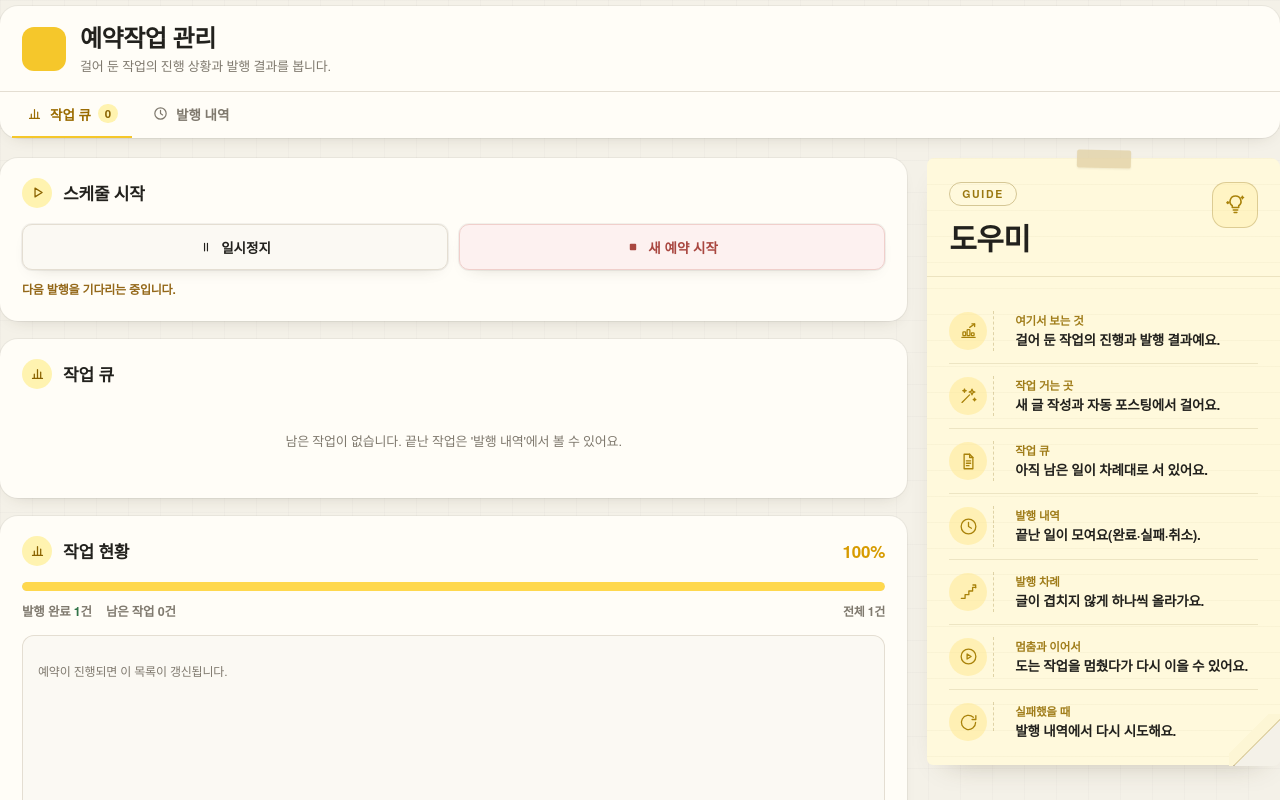
it: 예약 포스팅 화면 › 이미 올라간 글도 발행 내역에서 지울 수 있다
Click the tab "발행 내역": (191, 115) [138,92,243,138]
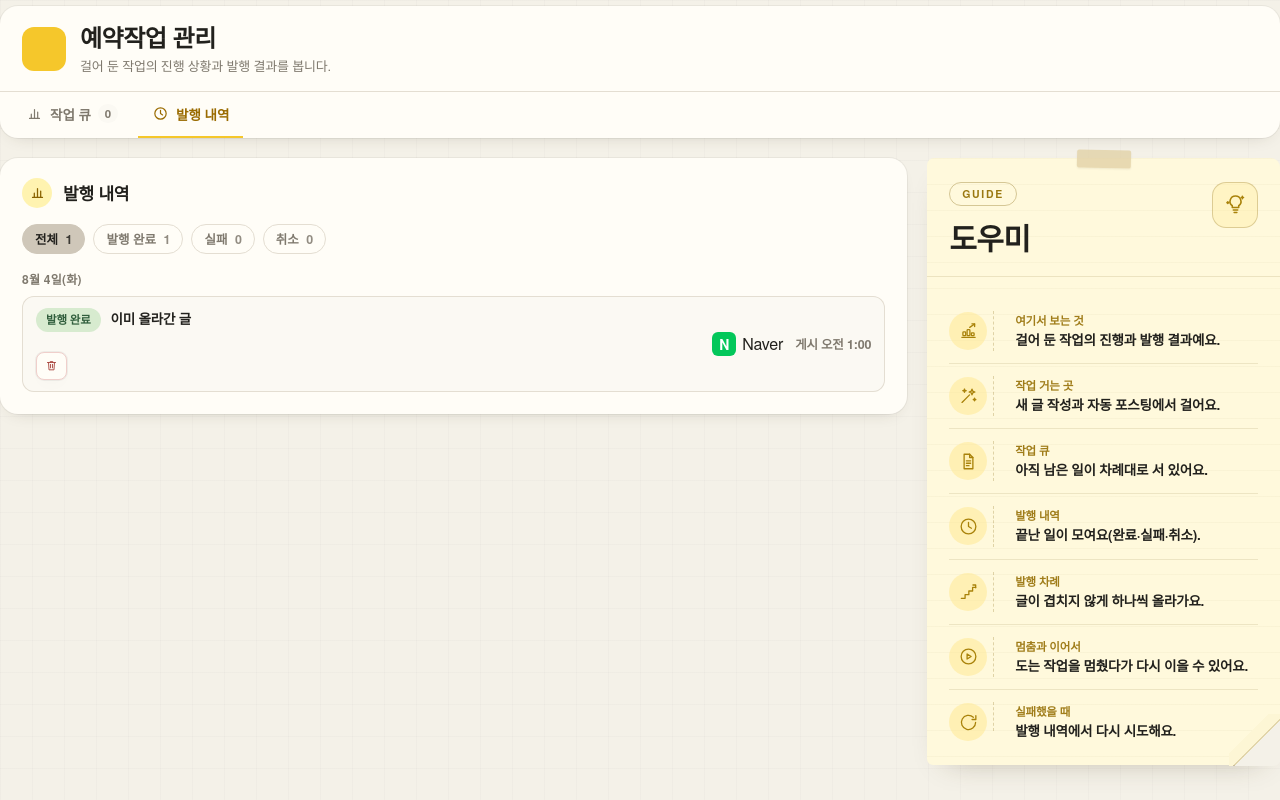
Check: the list item with class "history-row" shows "이미 올라간 글", box [111,309,191,328]
Check: the button named "'이미 올라간 글' 내역에서 지우기" is shown, box [36,352,67,380]
